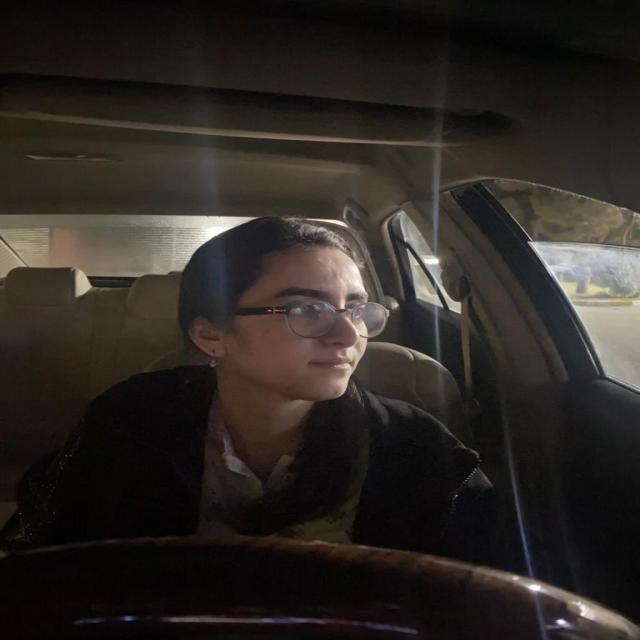person: (200, 219, 392, 397)
